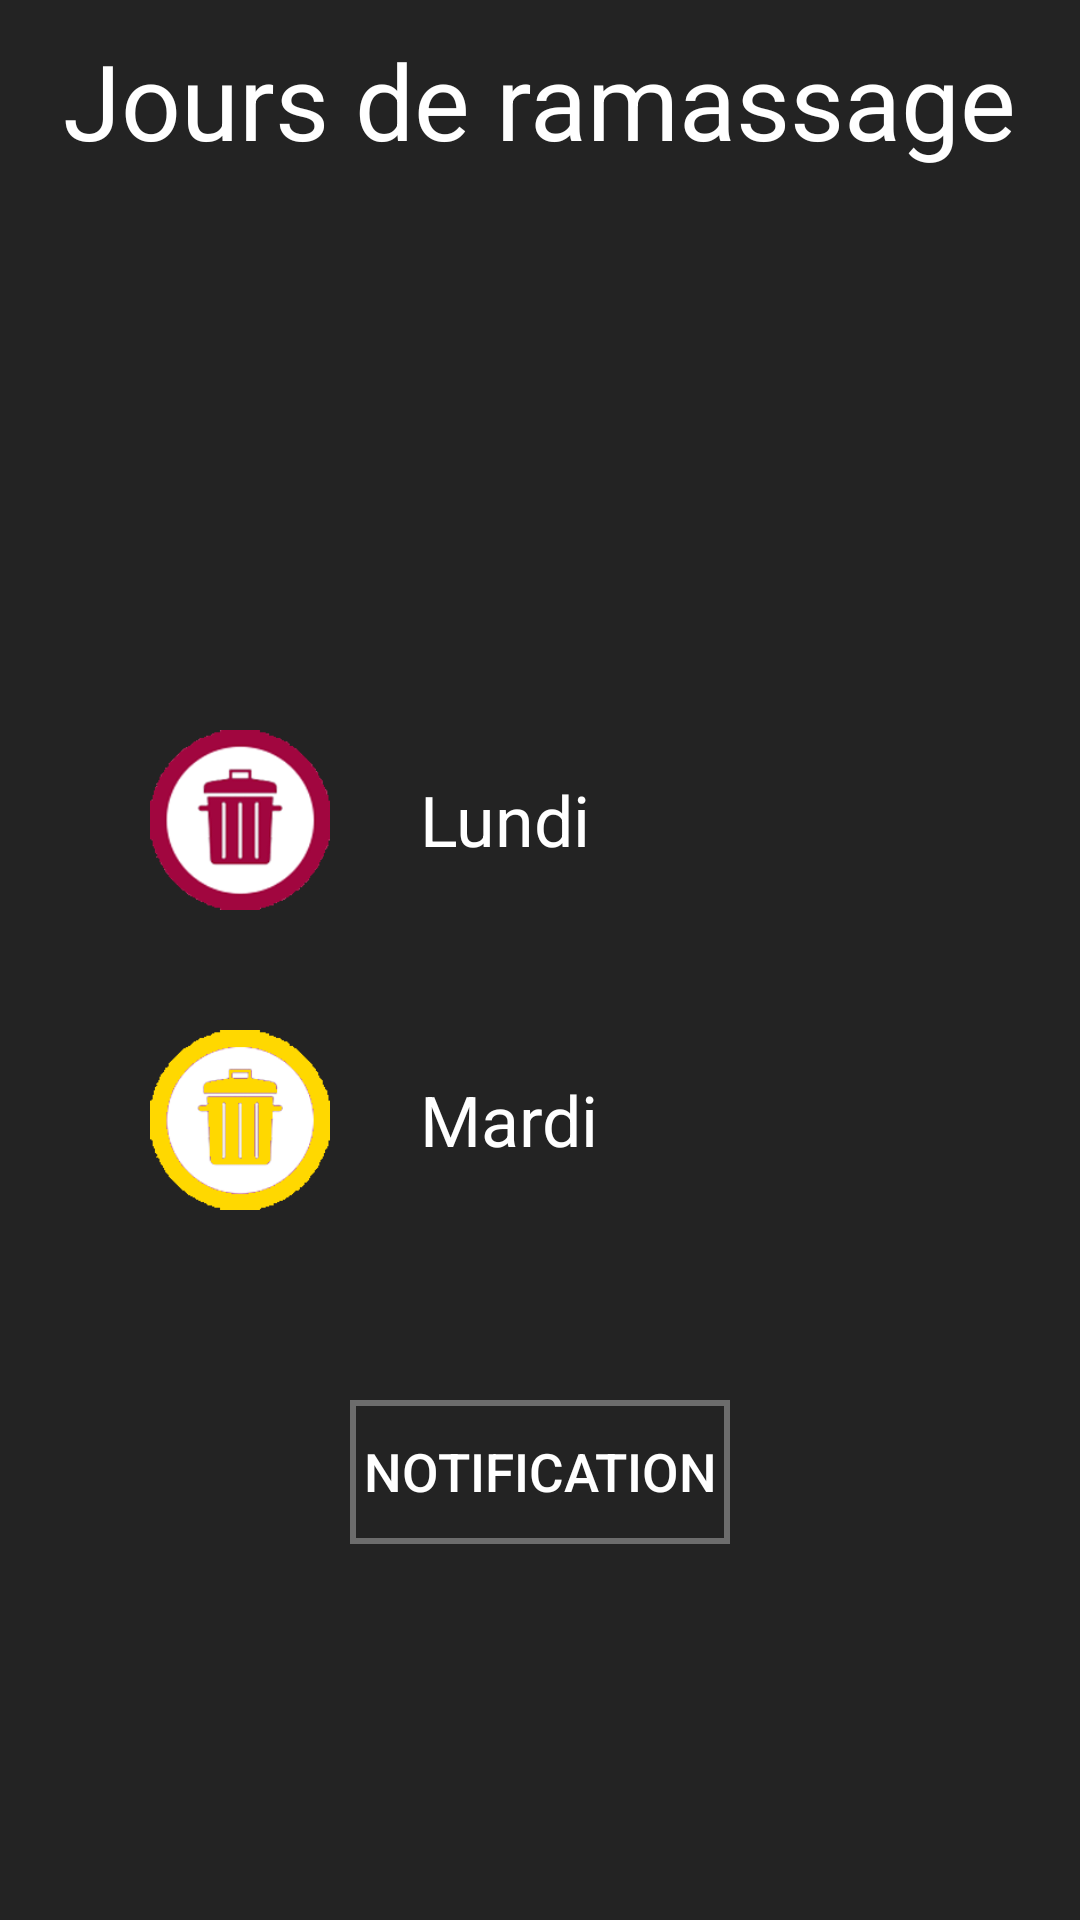

Named icons in this screenshot (1080w x 1920h) and their centers, [x,y]:
bouton dmr: [240,820]
bouton jaune: [240,1120]
